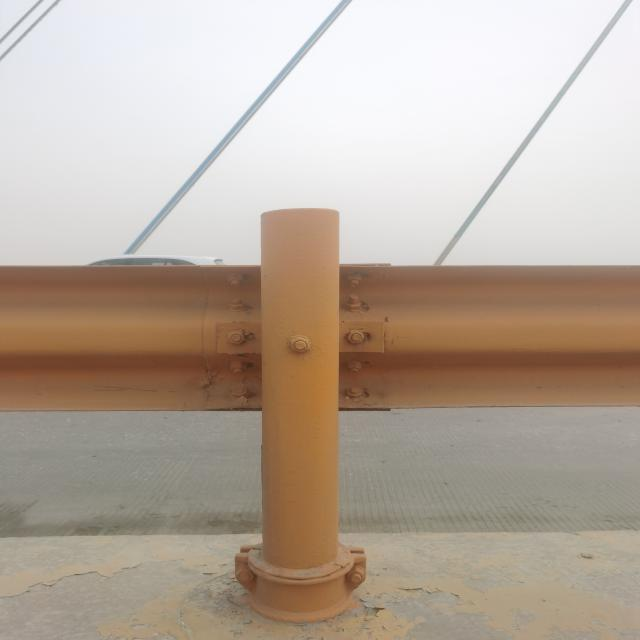bolt nut: (288, 335, 312, 354), (344, 329, 366, 345), (228, 386, 252, 400), (226, 330, 246, 346), (229, 360, 249, 376), (345, 385, 365, 399), (344, 360, 364, 374), (343, 298, 363, 312), (344, 272, 363, 286), (227, 273, 244, 288), (228, 298, 245, 311)
